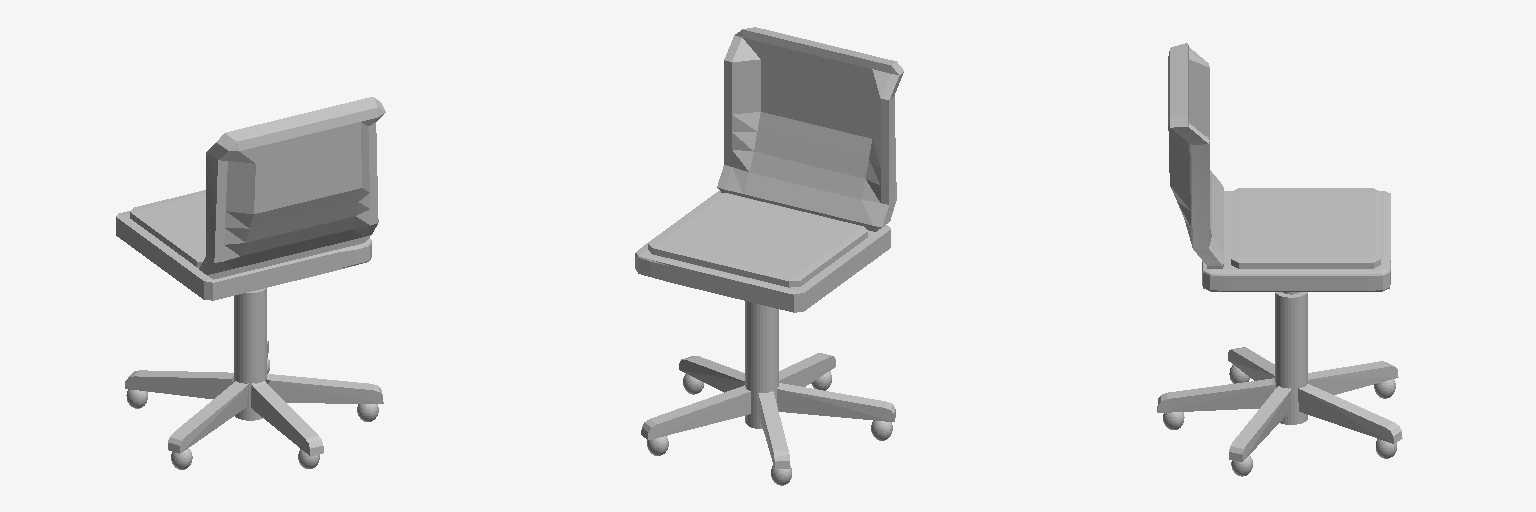
File: wheelyChair.obj
3 views of the same model, side by side, from view 1: azimuth 30°, elevation 25°; view 2: azimuth 150°, elevation 25°; view 3: azimuth 270°, elevation 25° (orthographic).
Visible parts, largest first — view 1: Cube, Legs, ChairBase, Seat, Cylinder, Wheels; view 2: Cube, Seat, Legs, ChairBase, Cylinder, Wheels; view 3: Seat, Legs, Cube, ChairBase, Cylinder, Wheels.
Boxes of the visible parts, <box> form: Cube: <box>199,97,385,279</box>; Legs: <box>125,341,383,456</box>; ChairBase: <box>116,211,371,300</box>; Seat: <box>130,190,205,267</box>; Cylinder: <box>234,288,266,420</box>; Wheels: <box>126,358,378,469</box>; Cube: <box>717,27,903,231</box>; Seat: <box>648,193,867,287</box>; Legs: <box>641,353,895,468</box>; ChairBase: <box>635,191,890,312</box>; Cylinder: <box>745,301,778,428</box>; Wheels: <box>647,371,892,485</box>; Seat: <box>1231,188,1380,268</box>; Legs: <box>1157,347,1402,461</box>; Cube: <box>1168,43,1223,268</box>; ChairBase: <box>1202,191,1390,291</box>; Cylinder: <box>1275,292,1307,424</box>; Wheels: <box>1163,365,1396,476</box>.
Size of the model in its own units: 0.7531 by 1.18 by 0.7434.